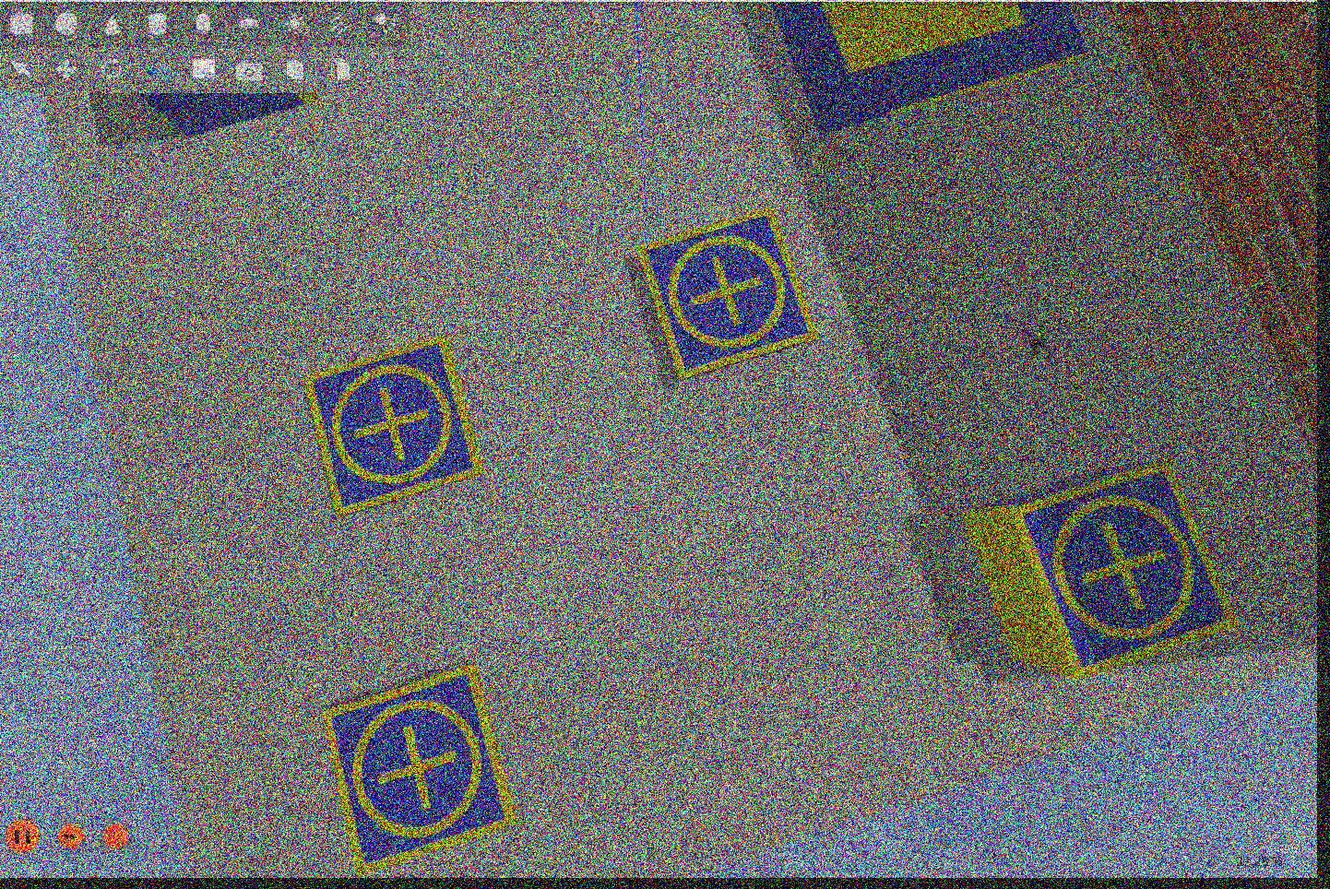large_base: (771, 1, 1091, 132)
small_base: (1003, 461, 1243, 681), (325, 663, 515, 879), (301, 334, 490, 519), (637, 210, 818, 382)
